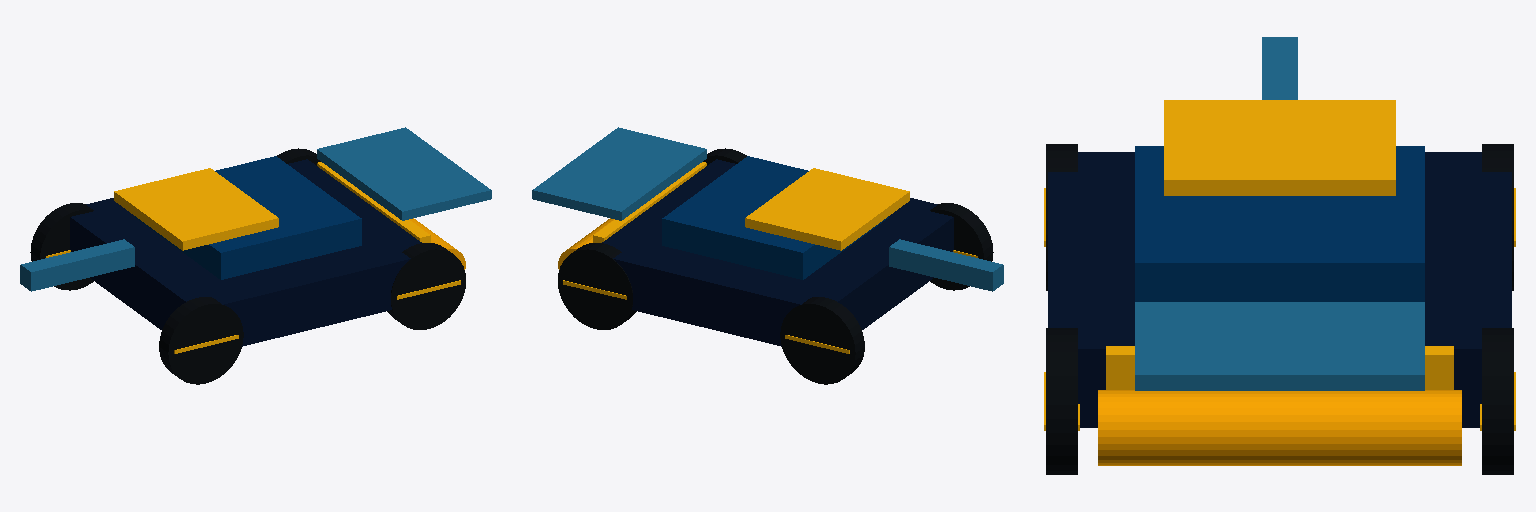
The robot description file, URDF, robot "eerkit_tank":
<?xml version='1.0' encoding='utf-8'?>
<robot name="eerkit_tank">
  <link name="base_link">
    <inertial>
      <mass value="8" />
      <origin xyz="0 0 0" rpy="0 0 0" />
      <inertia ixx="0.07066666666666667" iyy="0.07066666666666667" izz="0.13653333333333334" ixy="0" ixz="0" iyz="0" />
    </inertial>
    <visual>
      <origin xyz="0 0 0" rpy="0 0 0" />
      <geometry>
        <box size=".32 .32 .06" />
      </geometry>
      <material name="base_link_material">
        <color rgba=".045 .10 .20 1" />
      </material>
    </visual>
    <collision>
      <origin xyz="0 0 0" rpy="0 0 0" />
      <geometry>
        <box size=".32 .32 .06" />
      </geometry>
    </collision>
  </link>
  <link name="electronics">
    <inertial>
      <mass value="0.3" />
      <origin xyz="0 0 0" rpy="0 0 0" />
      <inertia ixx="0.001030625" iyy="0.0009331249999999999" izz="0.0019025" ixy="0" ixz="0" iyz="0" />
    </inertial>
    <visual>
      <origin xyz="0 0 0" rpy="0 0 0" />
      <geometry>
        <box size=".19 .20 .035" />
      </geometry>
      <material name="electronics_material">
        <color rgba=".025 .24 .42 1" />
      </material>
    </visual>
    <collision>
      <origin xyz="0 0 0" rpy="0 0 0" />
      <geometry>
        <box size=".19 .20 .035" />
      </geometry>
    </collision>
  </link>
  <joint name="electronics_fixed" type="fixed">
    <parent link="base_link" />
    <child link="electronics" />
    <origin xyz="0 0 .0475" rpy="0 0 0" />
    <axis xyz="0 0 1" />
  </joint>
  <link name="nose">
    <inertial>
      <mass value="0.08" />
      <origin xyz="0 0 0" rpy="0 0 0" />
      <inertia ixx="0.0003921666666666667" iyy="9.666666666666668e-06" izz="0.0003855" ixy="0" ixz="0" iyz="0" />
    </inertial>
    <visual>
      <origin xyz="0 0 0" rpy="0 0 0" />
      <geometry>
        <box size=".015 .24 .035" />
      </geometry>
      <material name="nose_material">
        <color rgba="1 .72 .04 1" />
      </material>
    </visual>
    <collision>
      <origin xyz="0 0 0" rpy="0 0 0" />
      <geometry>
        <box size=".015 .24 .035" />
      </geometry>
    </collision>
  </link>
  <joint name="nose_fixed" type="fixed">
    <parent link="base_link" />
    <child link="nose" />
    <origin xyz=".169 0 .015" rpy="0 0 0" />
    <axis xyz="0 0 1" />
  </joint>
  <link name="front_left_wheel">
    <inertial>
      <mass value="0.35" />
      <origin xyz="0 0 0" rpy="0 0 0" />
      <inertia ixx="0.0004516119999999999" iyy="0.0004516119999999999" izz="0.0004516119999999999" ixy="0" ixz="0" iyz="0" />
    </inertial>
    <visual>
      <origin xyz="0 0 0" rpy="-1.5707963267948966 0 0.0" />
      <geometry>
        <cylinder radius="0.0508" length="0.022" />
      </geometry>
      <material name="front_left_wheel_material">
        <color rgba=".07 .085 .10 1" />
      </material>
    </visual>
    <collision>
      <origin xyz="0 0 0" rpy="-1.5707963267948966 0 0.0" />
      <geometry>
        <cylinder radius="0.0508" length="0.022" />
      </geometry>
    </collision>
    <visual>
      <origin xyz="0.0 -0.011699999999999999 0.0" rpy="-1.5707963267948966 0 0.0" />
      <geometry>
        <box size="0.08635999999999999 .005 .001" />
      </geometry>
      <material name="motion_spoke">
        <color rgba="1 .72 .04 1" />
      </material>
    </visual>
    <visual>
      <origin xyz="0.0 0.011699999999999999 0.0" rpy="-1.5707963267948966 0 0.0" />
      <geometry>
        <box size="0.08635999999999999 .005 .001" />
      </geometry>
      <material name="motion_spoke">
        <color rgba="1 .72 .04 1" />
      </material>
    </visual>
  </link>
  <joint name="front_left" type="continuous">
    <parent link="base_link" />
    <child link="front_left_wheel" />
    <origin xyz="0.15 0.15 -0.015" rpy="0 0 0" />
    <axis xyz="0 1 0" />
    <dynamics damping="0.0001" friction="0" />
    <limit effort="60" velocity="200" />
  </joint>
  <link name="front_right_wheel">
    <inertial>
      <mass value="0.35" />
      <origin xyz="0 0 0" rpy="0 0 0" />
      <inertia ixx="0.0004516119999999999" iyy="0.0004516119999999999" izz="0.0004516119999999999" ixy="0" ixz="0" iyz="0" />
    </inertial>
    <visual>
      <origin xyz="0 0 0" rpy="-1.5707963267948966 0 0.0" />
      <geometry>
        <cylinder radius="0.0508" length="0.022" />
      </geometry>
      <material name="front_right_wheel_material">
        <color rgba=".07 .085 .10 1" />
      </material>
    </visual>
    <collision>
      <origin xyz="0 0 0" rpy="-1.5707963267948966 0 0.0" />
      <geometry>
        <cylinder radius="0.0508" length="0.022" />
      </geometry>
    </collision>
    <visual>
      <origin xyz="0.0 -0.011699999999999999 0.0" rpy="-1.5707963267948966 0 0.0" />
      <geometry>
        <box size="0.08635999999999999 .005 .001" />
      </geometry>
      <material name="motion_spoke">
        <color rgba="1 .72 .04 1" />
      </material>
    </visual>
    <visual>
      <origin xyz="0.0 0.011699999999999999 0.0" rpy="-1.5707963267948966 0 0.0" />
      <geometry>
        <box size="0.08635999999999999 .005 .001" />
      </geometry>
      <material name="motion_spoke">
        <color rgba="1 .72 .04 1" />
      </material>
    </visual>
  </link>
  <joint name="front_right" type="continuous">
    <parent link="base_link" />
    <child link="front_right_wheel" />
    <origin xyz="0.15 -0.15 -0.015" rpy="0 0 0" />
    <axis xyz="0 1 0" />
    <dynamics damping="0.0001" friction="0" />
    <limit effort="60" velocity="200" />
  </joint>
  <link name="back_left_wheel">
    <inertial>
      <mass value="0.35" />
      <origin xyz="0 0 0" rpy="0 0 0" />
      <inertia ixx="0.0004516119999999999" iyy="0.0004516119999999999" izz="0.0004516119999999999" ixy="0" ixz="0" iyz="0" />
    </inertial>
    <visual>
      <origin xyz="0 0 0" rpy="-1.5707963267948966 0 0.0" />
      <geometry>
        <cylinder radius="0.0508" length="0.022" />
      </geometry>
      <material name="back_left_wheel_material">
        <color rgba=".07 .085 .10 1" />
      </material>
    </visual>
    <collision>
      <origin xyz="0 0 0" rpy="-1.5707963267948966 0 0.0" />
      <geometry>
        <cylinder radius="0.0508" length="0.022" />
      </geometry>
    </collision>
    <visual>
      <origin xyz="0.0 -0.011699999999999999 0.0" rpy="-1.5707963267948966 0 0.0" />
      <geometry>
        <box size="0.08635999999999999 .005 .001" />
      </geometry>
      <material name="motion_spoke">
        <color rgba="1 .72 .04 1" />
      </material>
    </visual>
    <visual>
      <origin xyz="0.0 0.011699999999999999 0.0" rpy="-1.5707963267948966 0 0.0" />
      <geometry>
        <box size="0.08635999999999999 .005 .001" />
      </geometry>
      <material name="motion_spoke">
        <color rgba="1 .72 .04 1" />
      </material>
    </visual>
  </link>
  <joint name="back_left" type="continuous">
    <parent link="base_link" />
    <child link="back_left_wheel" />
    <origin xyz="-0.15 0.15 -0.015" rpy="0 0 0" />
    <axis xyz="0 1 0" />
    <dynamics damping="0.0001" friction="0" />
    <limit effort="60" velocity="200" />
  </joint>
  <link name="back_right_wheel">
    <inertial>
      <mass value="0.35" />
      <origin xyz="0 0 0" rpy="0 0 0" />
      <inertia ixx="0.0004516119999999999" iyy="0.0004516119999999999" izz="0.0004516119999999999" ixy="0" ixz="0" iyz="0" />
    </inertial>
    <visual>
      <origin xyz="0 0 0" rpy="-1.5707963267948966 0 0.0" />
      <geometry>
        <cylinder radius="0.0508" length="0.022" />
      </geometry>
      <material name="back_right_wheel_material">
        <color rgba=".07 .085 .10 1" />
      </material>
    </visual>
    <collision>
      <origin xyz="0 0 0" rpy="-1.5707963267948966 0 0.0" />
      <geometry>
        <cylinder radius="0.0508" length="0.022" />
      </geometry>
    </collision>
    <visual>
      <origin xyz="0.0 -0.011699999999999999 0.0" rpy="-1.5707963267948966 0 0.0" />
      <geometry>
        <box size="0.08635999999999999 .005 .001" />
      </geometry>
      <material name="motion_spoke">
        <color rgba="1 .72 .04 1" />
      </material>
    </visual>
    <visual>
      <origin xyz="0.0 0.011699999999999999 0.0" rpy="-1.5707963267948966 0 0.0" />
      <geometry>
        <box size="0.08635999999999999 .005 .001" />
      </geometry>
      <material name="motion_spoke">
        <color rgba="1 .72 .04 1" />
      </material>
    </visual>
  </link>
  <joint name="back_right" type="continuous">
    <parent link="base_link" />
    <child link="back_right_wheel" />
    <origin xyz="-0.15 -0.15 -0.015" rpy="0 0 0" />
    <axis xyz="0 1 0" />
    <dynamics damping="0.0001" friction="0" />
    <limit effort="60" velocity="200" />
  </joint>
  <link name="intake_roller">
    <inertial>
      <mass value="0.25" />
      <origin xyz="0 0 0" rpy="0 0 0" />
      <inertia ixx="0.0013443333333333334" iyy="0.0013443333333333334" izz="0.0013443333333333334" ixy="0" ixz="0" iyz="0" />
    </inertial>
    <visual>
      <origin xyz="0 0 0" rpy="-1.5707963267948966 0 0" />
      <geometry>
        <cylinder radius="0.026" length="0.25" />
      </geometry>
      <material name="intake_roller_material">
        <color rgba="1 .67 .025 1" />
      </material>
    </visual>
    <collision>
      <origin xyz="0 0 0" rpy="-1.5707963267948966 0 0" />
      <geometry>
        <cylinder radius="0.026" length="0.25" />
      </geometry>
    </collision>
  </link>
  <joint name="intake" type="continuous">
    <parent link="base_link" />
    <child link="intake_roller" />
    <origin xyz=".195 0 -.014" rpy="0 0 0" />
    <axis xyz="0 1 0" />
    <dynamics damping="0.0001" friction="0" />
    <limit effort="60" velocity="200" />
  </joint>
  <link name="flap_link">
    <inertial>
      <mass value="0.15" />
      <origin xyz=".06 0 0" rpy="0 0 0" />
      <inertia ixx="0.0005018" iyy="0.00018179999999999997" izz="0.00068" ixy="0" ixz="0" iyz="0" />
    </inertial>
    <visual>
      <origin xyz=".06 0 0" rpy="0 0 0" />
      <geometry>
        <box size=".12 .20 .012" />
      </geometry>
      <material name="flap_link_material">
        <color rgba=".15 .45 .6 1" />
      </material>
    </visual>
    <collision>
      <origin xyz=".06 0 0" rpy="0 0 0" />
      <geometry>
        <box size=".12 .20 .012" />
      </geometry>
    </collision>
  </link>
  <joint name="flap" type="revolute">
    <parent link="base_link" />
    <child link="flap_link" />
    <origin xyz=".15 0 .055" rpy="0 0 0" />
    <axis xyz="0 -1 0" />
    <dynamics damping="0.0001" friction="0" />
    <limit effort="60" velocity="200" lower="0" upper="1.3" />
  </joint>
  <link name="lift_link">
    <inertial>
      <mass value="0.3" />
      <origin xyz="0 0 0" rpy="0 0 0" />
      <inertia ixx="0.0006435999999999999" iyy="0.0004261" izz="0.0010625" ixy="0" ixz="0" iyz="0" />
    </inertial>
    <visual>
      <origin xyz="0 0 0" rpy="0 0 0" />
      <geometry>
        <box size=".13 .16 .012" />
      </geometry>
      <material name="lift_link_material">
        <color rgba="1 .72 .04 1" />
      </material>
    </visual>
    <collision>
      <origin xyz="0 0 0" rpy="0 0 0" />
      <geometry>
        <box size=".13 .16 .012" />
      </geometry>
    </collision>
  </link>
  <joint name="lift" type="prismatic">
    <parent link="base_link" />
    <child link="lift_link" />
    <origin xyz="-.07 0 .075" rpy="0 0 0" />
    <axis xyz="0 0 1" />
    <dynamics damping="0.0001" friction="0" />
    <limit effort="60" velocity="200" lower="0" upper="0.12" />
  </joint>
  <link name="loader_link">
    <inertial>
      <mass value="0.15" />
      <origin xyz="-.07 0 0" rpy="0 0 0" />
      <inertia ixx="1.5625000000000004e-05" iyy="0.00025281250000000005" izz="0.00025281250000000005" ixy="0" ixz="0" iyz="0" />
    </inertial>
    <visual>
      <origin xyz="-.07 0 0" rpy="0 0 0" />
      <geometry>
        <box size=".14 .025 .025" />
      </geometry>
      <material name="loader_link_material">
        <color rgba=".15 .45 .6 1" />
      </material>
    </visual>
    <collision>
      <origin xyz="-.07 0 0" rpy="0 0 0" />
      <geometry>
        <box size=".14 .025 .025" />
      </geometry>
    </collision>
  </link>
  <joint name="loader" type="revolute">
    <parent link="base_link" />
    <child link="loader_link" />
    <origin xyz="-.16 0 .04" rpy="0 0 0" />
    <axis xyz="0 -1 0" />
    <dynamics damping="0.0001" friction="0" />
    <limit effort="60" velocity="200" lower="0" upper="1.3" />
  </joint>
</robot>

--- Facts derived from the render (not from the file) ---
Views: 3 orthographic renders of the robot side by side, from view 1: azimuth 30°, elevation 25°; view 2: azimuth 150°, elevation 25°; view 3: azimuth 270°, elevation 25°.
Model eerkit_tank with 11 links and 10 joints (2 revolute, 5 continuous, 1 prismatic, 2 fixed), rooted at base_link, posed every joint at zero.
Visible links, largest first — view 1: base_link, electronics, flap_link, lift_link, back_right_wheel, front_right_wheel, loader_link, back_left_wheel, nose; view 2: base_link, electronics, flap_link, lift_link, back_left_wheel, front_left_wheel, loader_link, back_right_wheel, nose; view 3: base_link, electronics, intake_roller, flap_link, lift_link, front_left_wheel, front_right_wheel, nose, loader_link, back_left_wheel, back_right_wheel.
Boxes of the visible links, x1,y1,x2,y2 form: base_link: [70, 159, 421, 346]; electronics: [135, 156, 361, 279]; flap_link: [317, 127, 491, 220]; lift_link: [114, 168, 278, 250]; back_right_wheel: [159, 297, 243, 384]; front_right_wheel: [387, 243, 465, 329]; loader_link: [20, 239, 134, 291]; back_left_wheel: [30, 203, 93, 290]; nose: [317, 162, 430, 242]; base_link: [602, 159, 953, 346]; electronics: [662, 156, 888, 279]; flap_link: [532, 127, 706, 220]; lift_link: [745, 168, 909, 250]; back_left_wheel: [780, 297, 864, 384]; front_left_wheel: [558, 243, 636, 329]; loader_link: [889, 239, 1003, 291]; back_right_wheel: [930, 203, 993, 290]; nose: [593, 162, 706, 242]; base_link: [1048, 152, 1511, 427]; electronics: [1135, 146, 1424, 301]; intake_roller: [1098, 390, 1461, 465]; flap_link: [1135, 302, 1424, 390]; lift_link: [1164, 100, 1395, 195]; front_left_wheel: [1480, 328, 1515, 474]; front_right_wheel: [1044, 328, 1079, 474]; nose: [1106, 346, 1453, 389]; loader_link: [1262, 37, 1297, 99]; back_left_wheel: [1482, 144, 1515, 290]; back_right_wheel: [1044, 144, 1077, 290].
Bounding box of the posed robot: 0.57 × 0.3244 × 0.1468 m (x, y, z).
Geometry: primitives only (box / cylinder / sphere), no mesh files.
